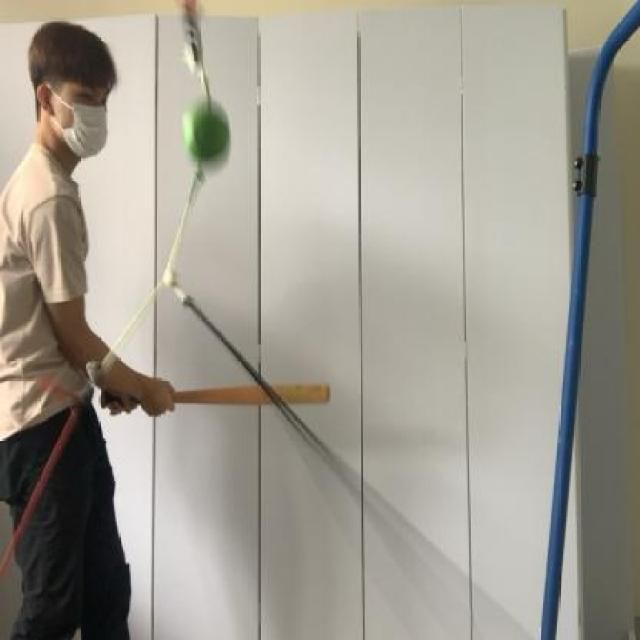baseball: (174, 83, 240, 169)
